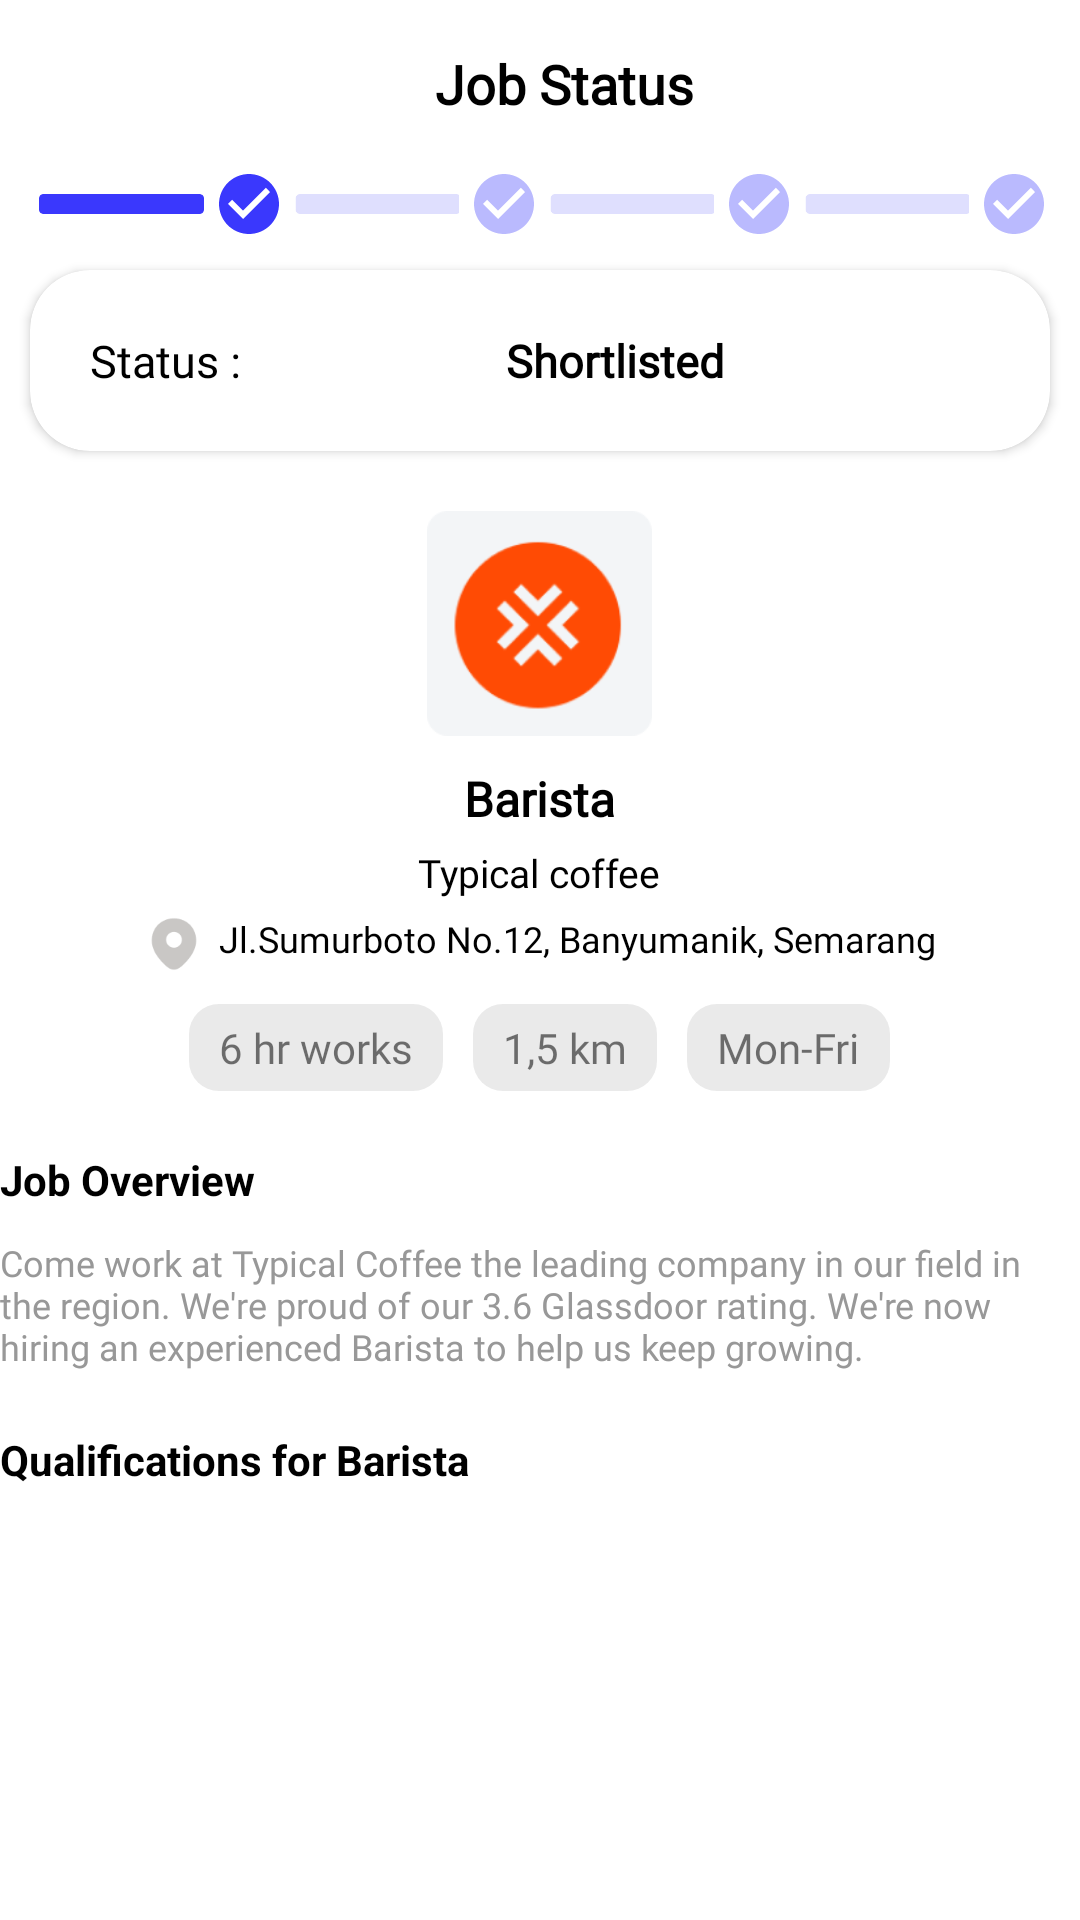

Icons on this 1080*1920 Android screen, each with its box as [left=x1, top=y1, right=x2, bottom=y2]:
check circle: [left=219, top=174, right=279, bottom=234]
check circle abu: [left=474, top=174, right=534, bottom=234], [left=729, top=174, right=789, bottom=234], [left=984, top=174, right=1044, bottom=234]
location: [left=152, top=918, right=196, bottom=970]
